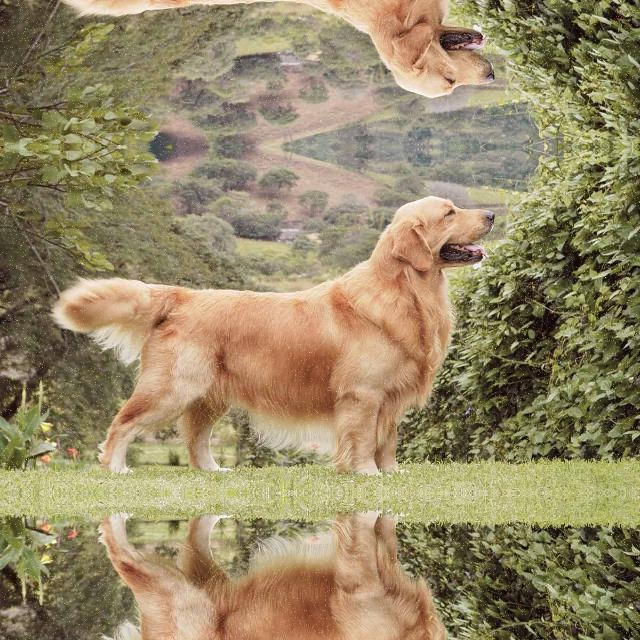dog: (69, 193, 493, 482), (70, 503, 493, 640), (70, 0, 493, 98)
